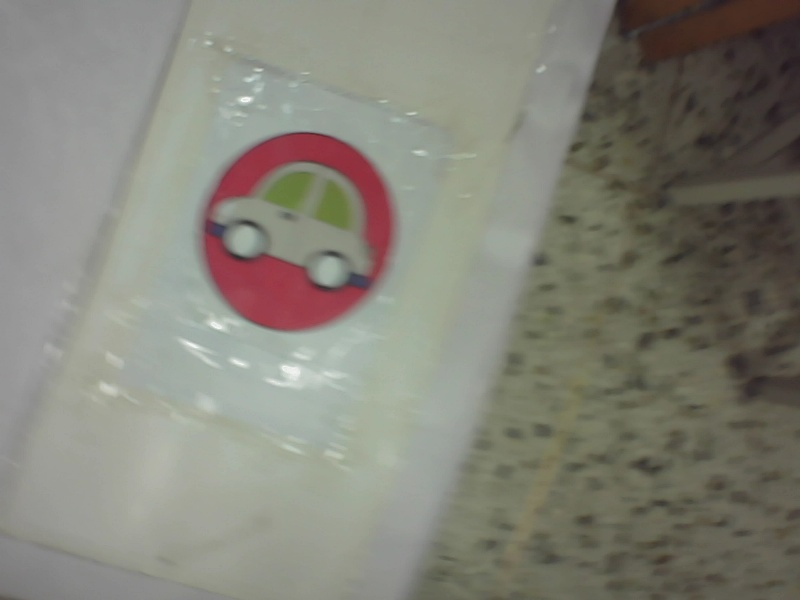areaC: (189, 125, 407, 342)
